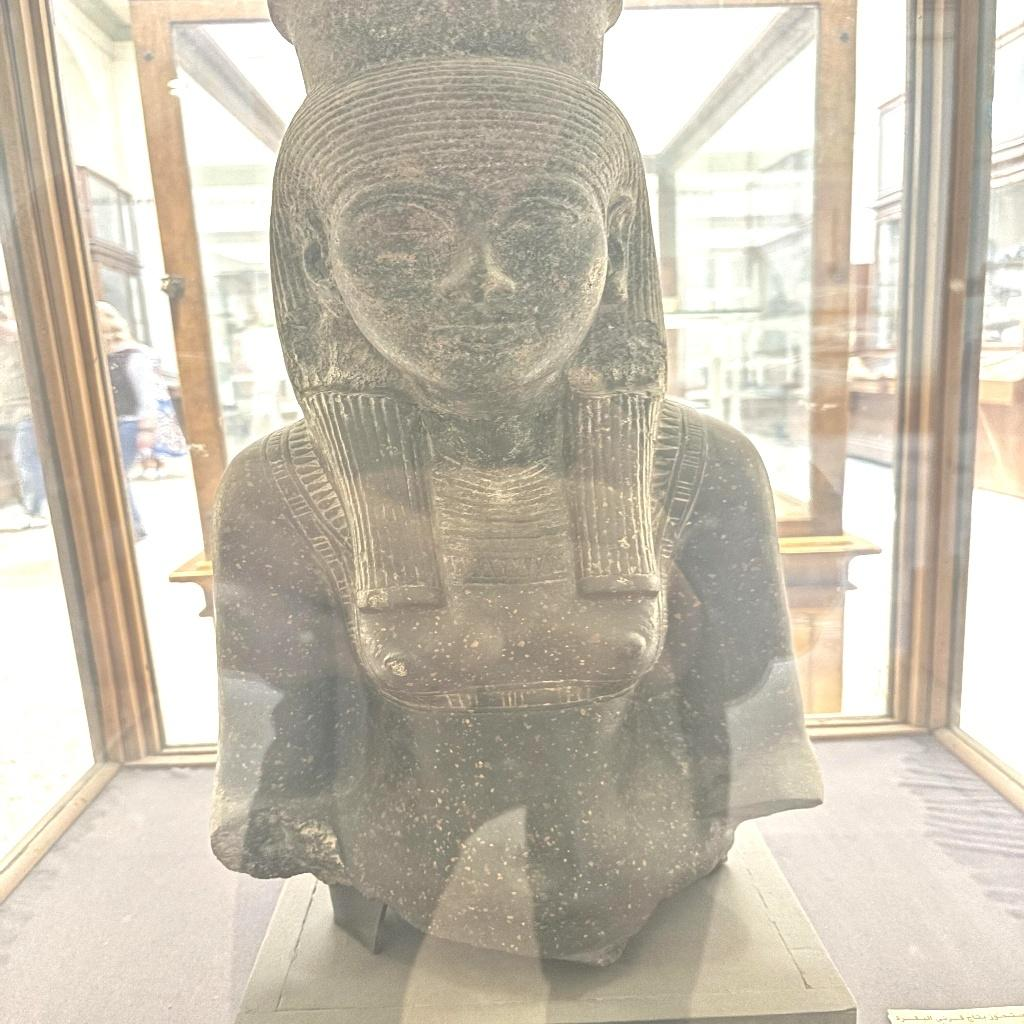Bust of Isis: (203, 6, 827, 969)
